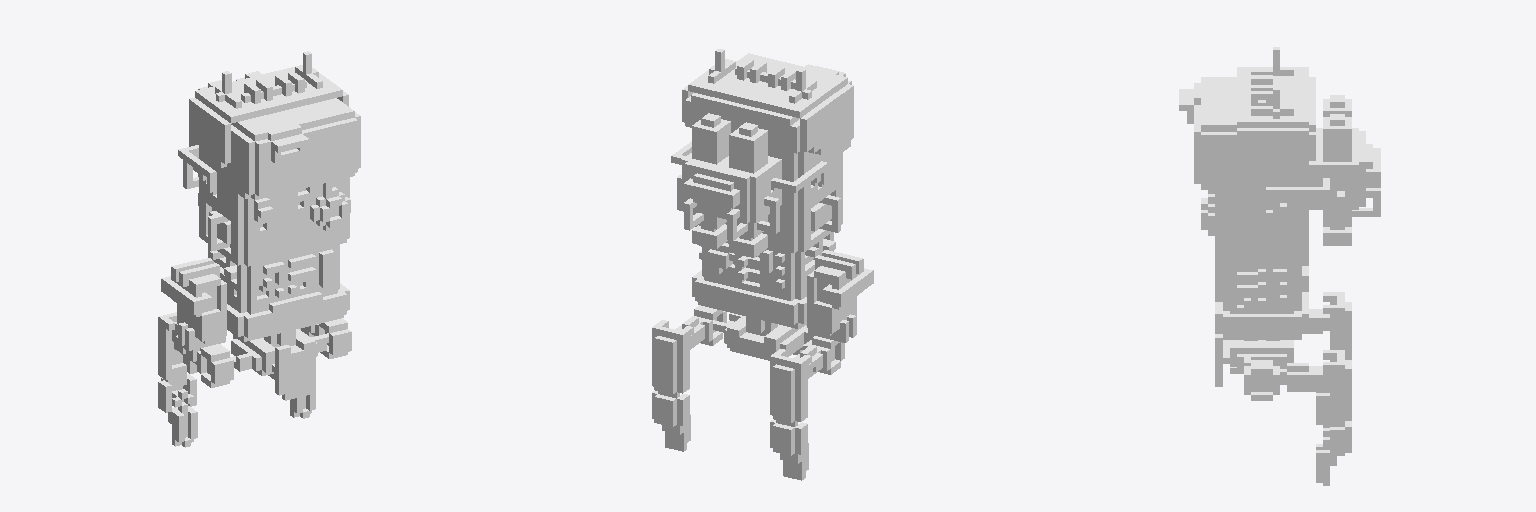
Rendered from ReconBot.obj.
3 views of the same model, side by side, from view 1: azimuth 30°, elevation 25°; view 2: azimuth 150°, elevation 25°; view 3: azimuth 270°, elevation 25° (orthographic).
Visible parts, largest first — view 1: object 1; view 2: object 1; view 3: object 1.
Part boxes in pixels (x1,y1,x2,y2): object 1: (158,51,360,447); object 1: (652,49,873,480); object 1: (1179,47,1380,485).
Size of the model in its own units: 2.7 by 5.9 by 2.8.